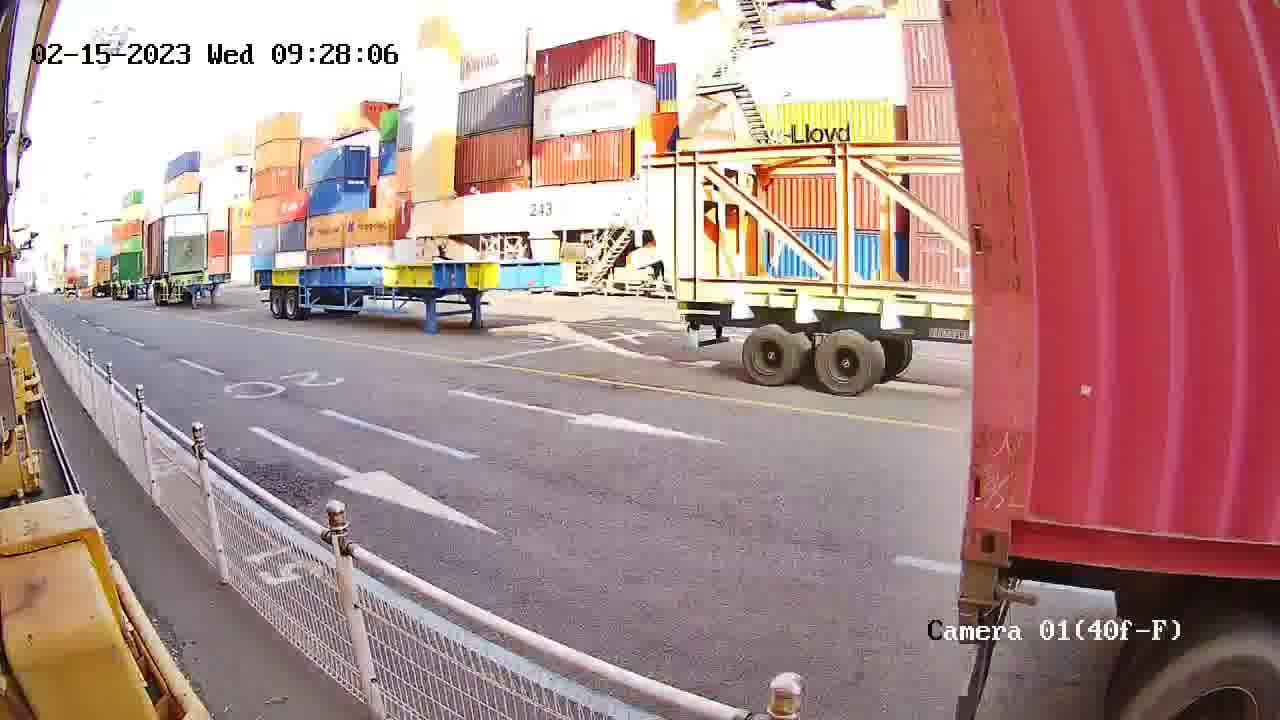Cone: (957, 562, 1008, 627)
Hole_L: (963, 475, 1072, 564)
Tire: (1124, 639, 1279, 719)
